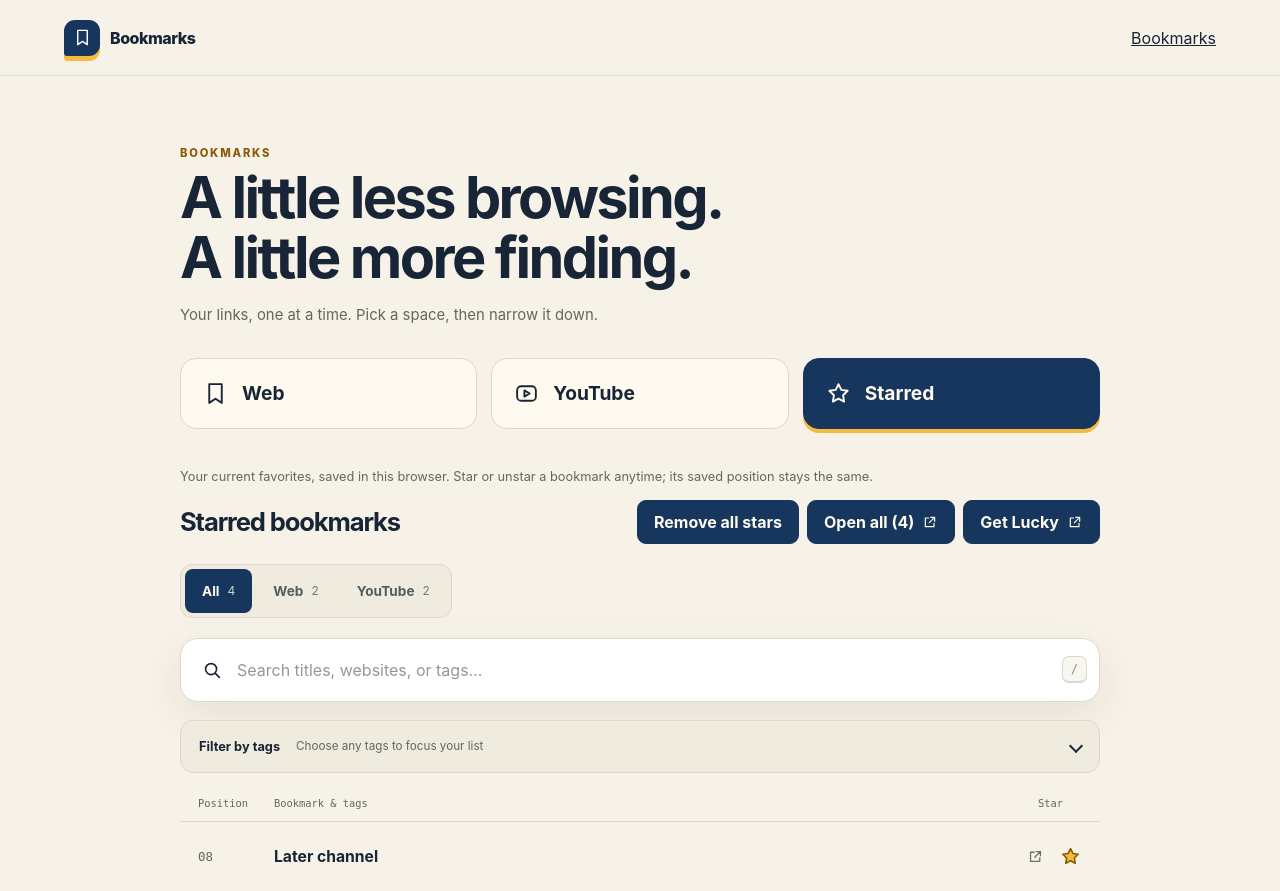
Test: reports blocked tabs and retries only remaining bookmarks until the view changes
The image size is (1280, 891).
Click the button "Open all (4)" at (881, 522), box [807,500,955,544]
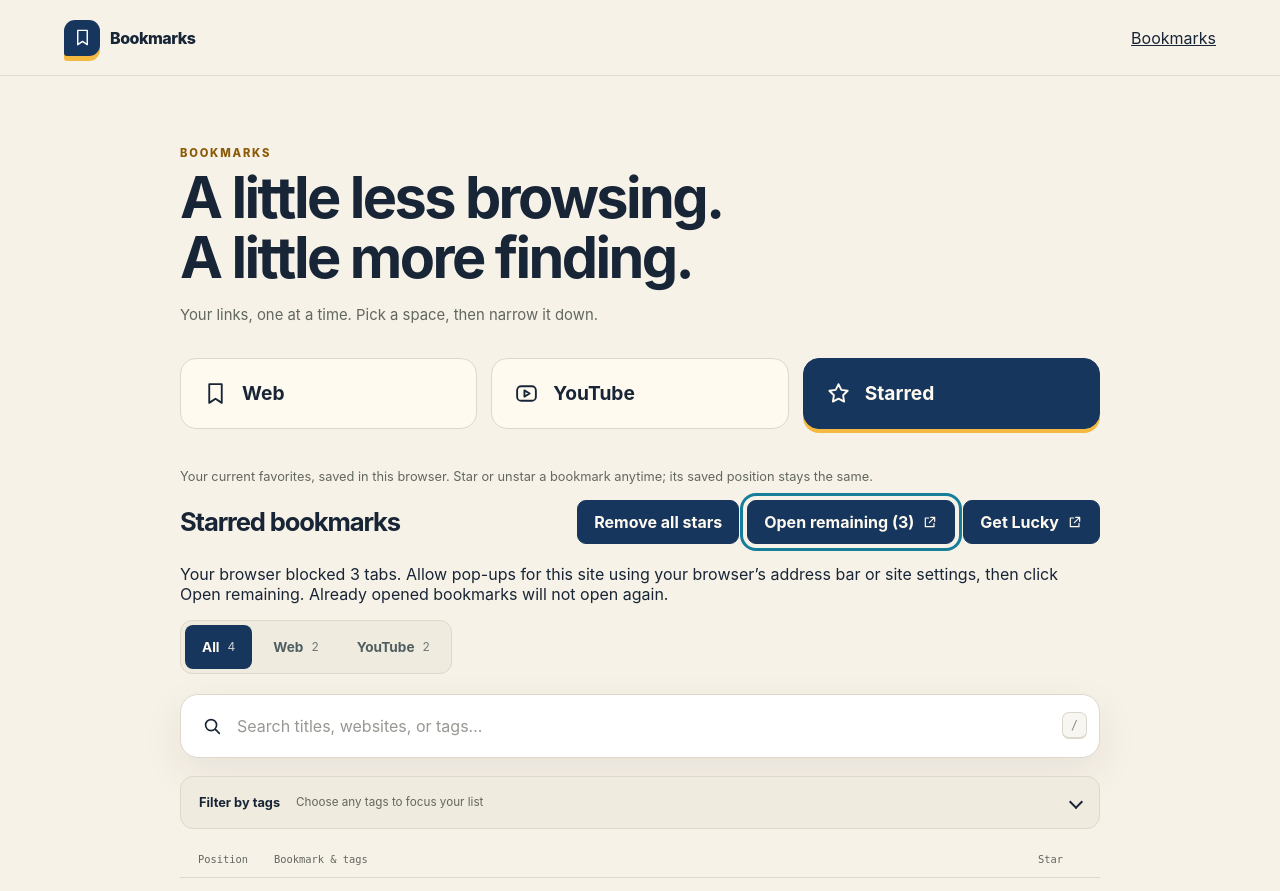
Now the message shows "Your browser blocked 3 tabs. Allow pop-ups for this site", box [180,564,1100,604]
Click the button "Open remaining (3)" at (851, 522), box [747,500,955,544]
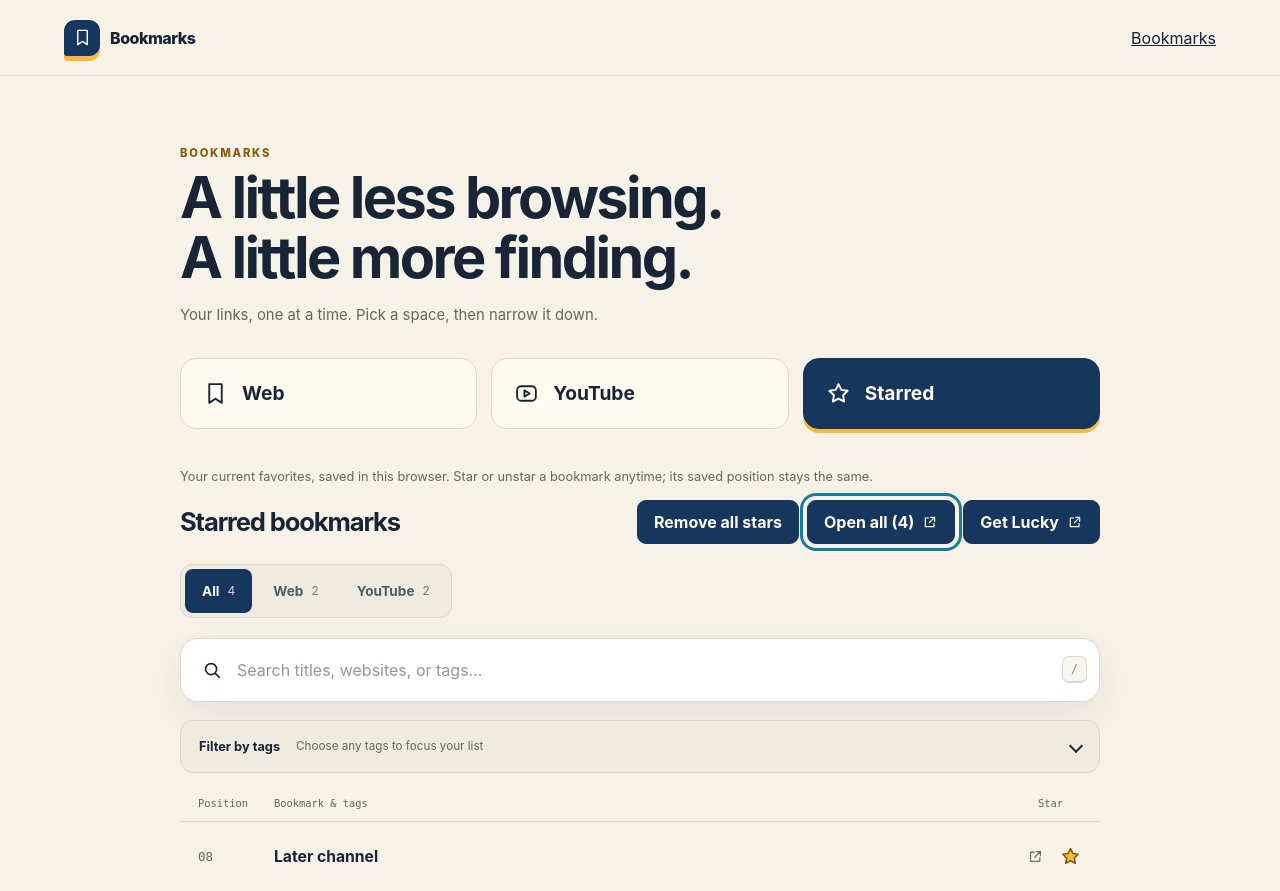
Now the message is gone
Click the button "Open all (4)" at (881, 522), box [807,500,955,544]
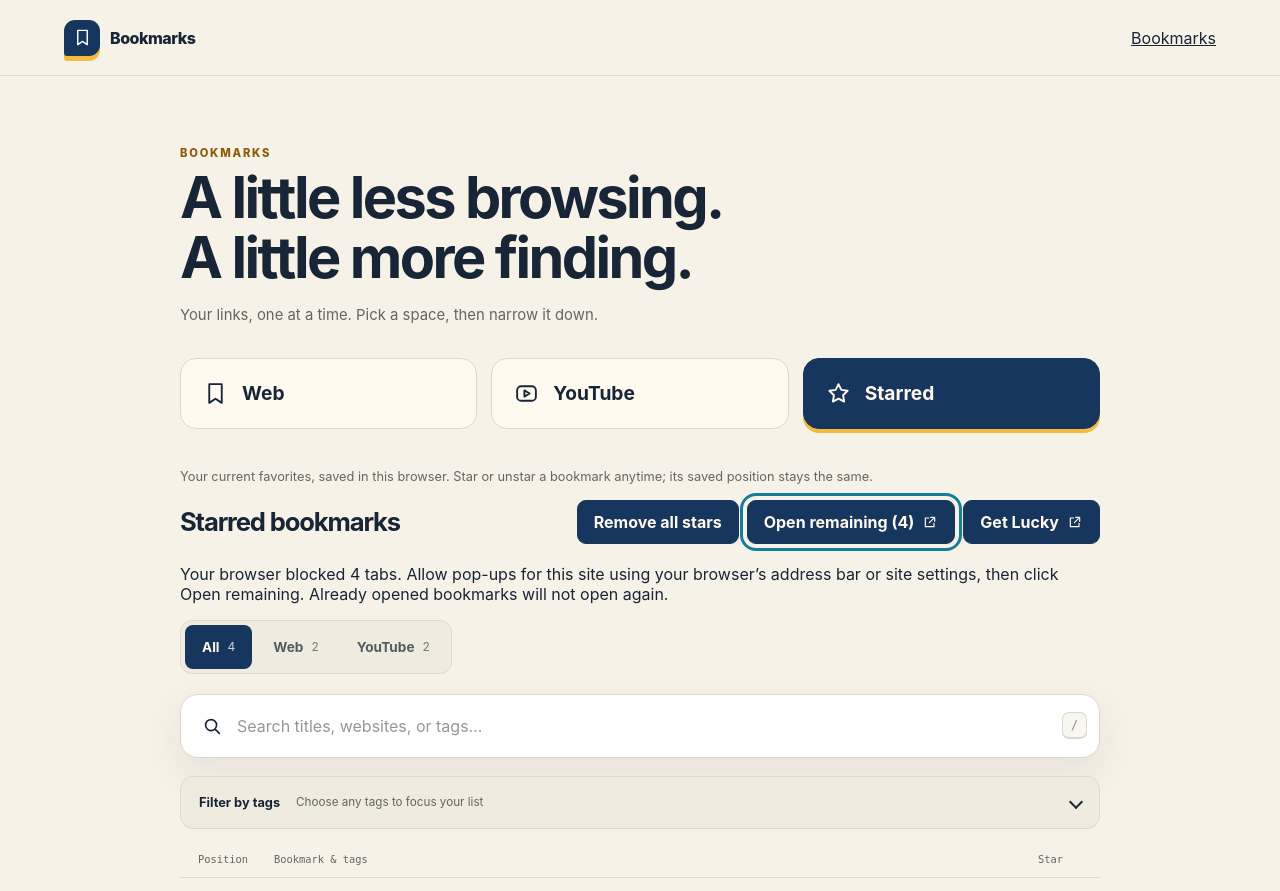
Now the button "Open remaining (4)" is shown, box [747,500,955,544]
Type "First" into the search field at (643, 726), box [235,715,1050,737]
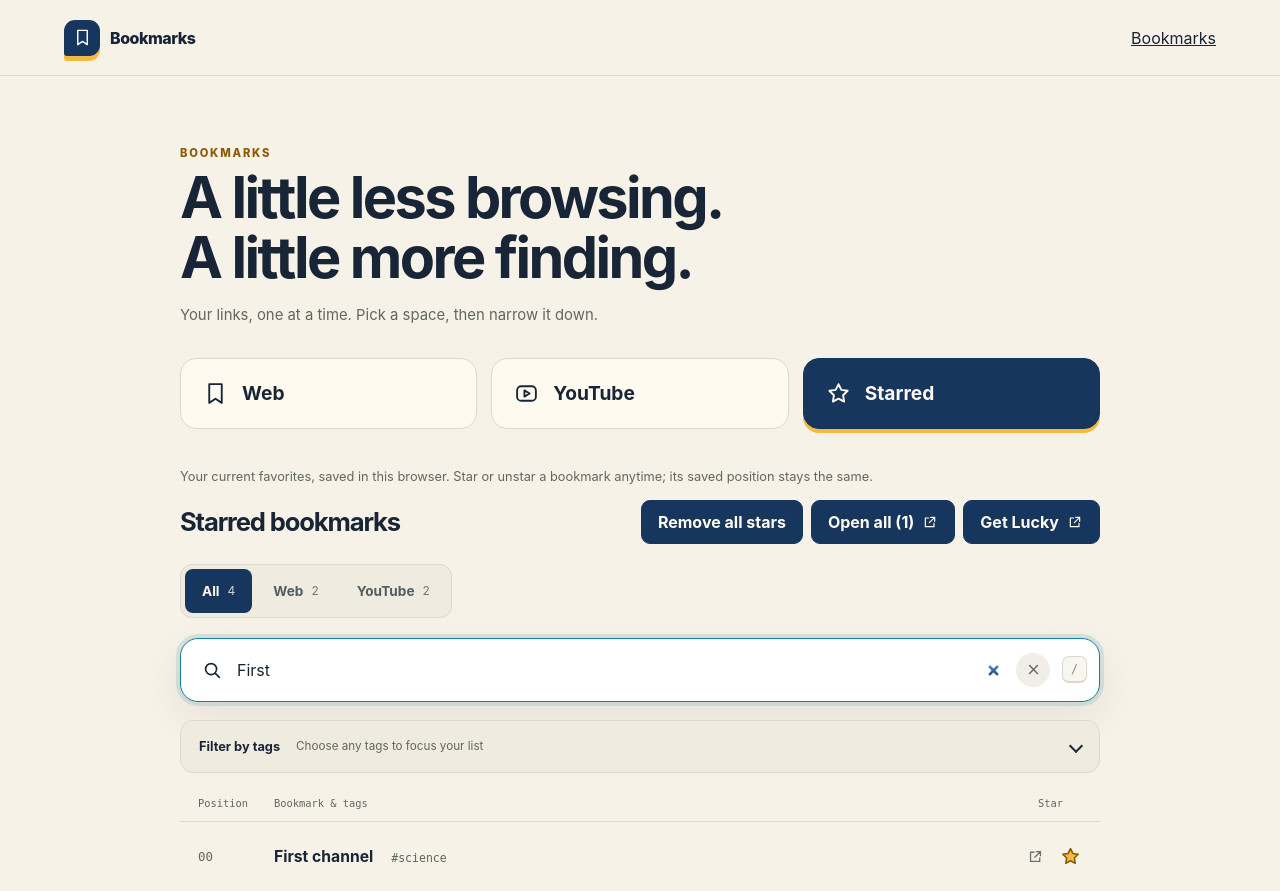
Now the button "Open all (1)" is shown, box [811,500,955,544]
Now the message is gone
